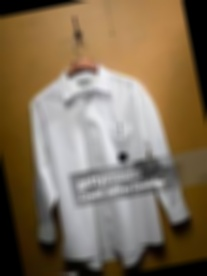ink: (116, 149, 130, 164)
